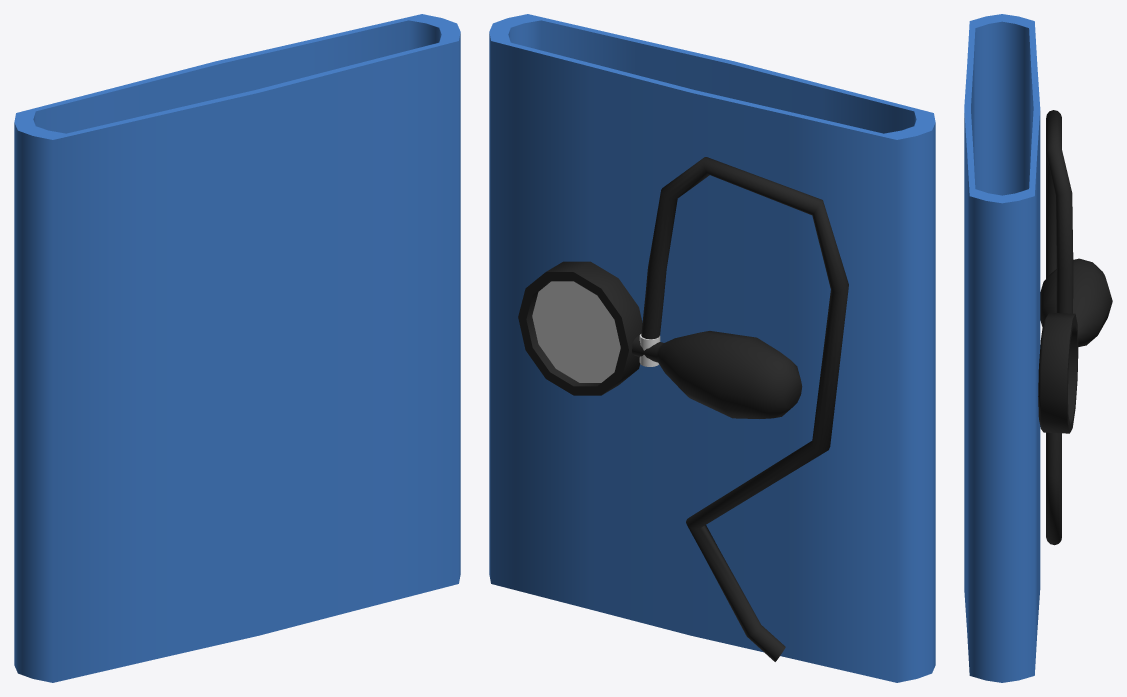
3 views of the same model, side by side, from view 1: azimuth 30°, elevation 25°; view 2: azimuth 150°, elevation 25°; view 3: azimuth 270°, elevation 25° (orthographic). The views are drawn at different scales.
Visible parts, largest first — view 1: Cube; view 2: Cube; view 3: Cube.
Boxes of the visible parts, x1=… form: Cube: x1=14, y1=14, x2=460, y2=682; Cube: x1=489, y1=14, x2=935, y2=682; Cube: x1=964, y1=14, x2=1112, y2=682.
Bounding box in the file's own units: 13.66 × 16.14 × 4.53.
